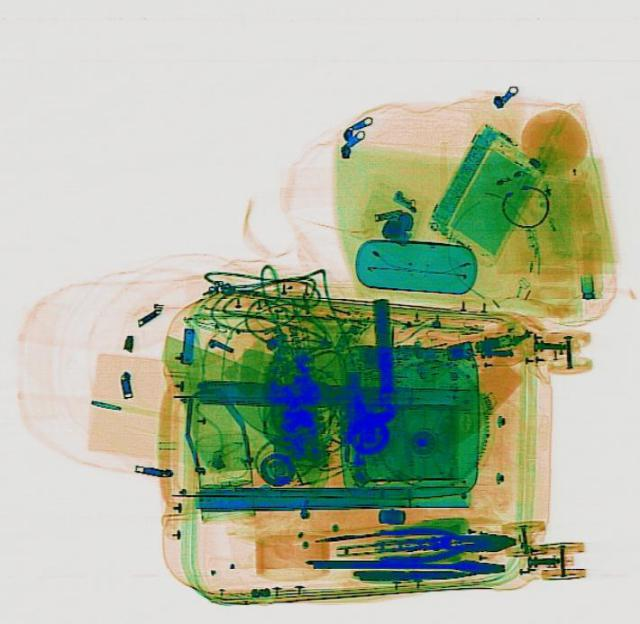Pliers: (376, 521, 514, 561)
